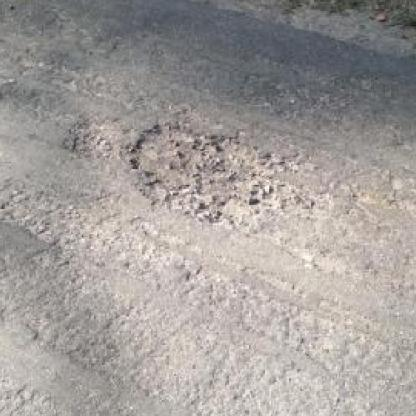pothole: (128, 118, 306, 234)
